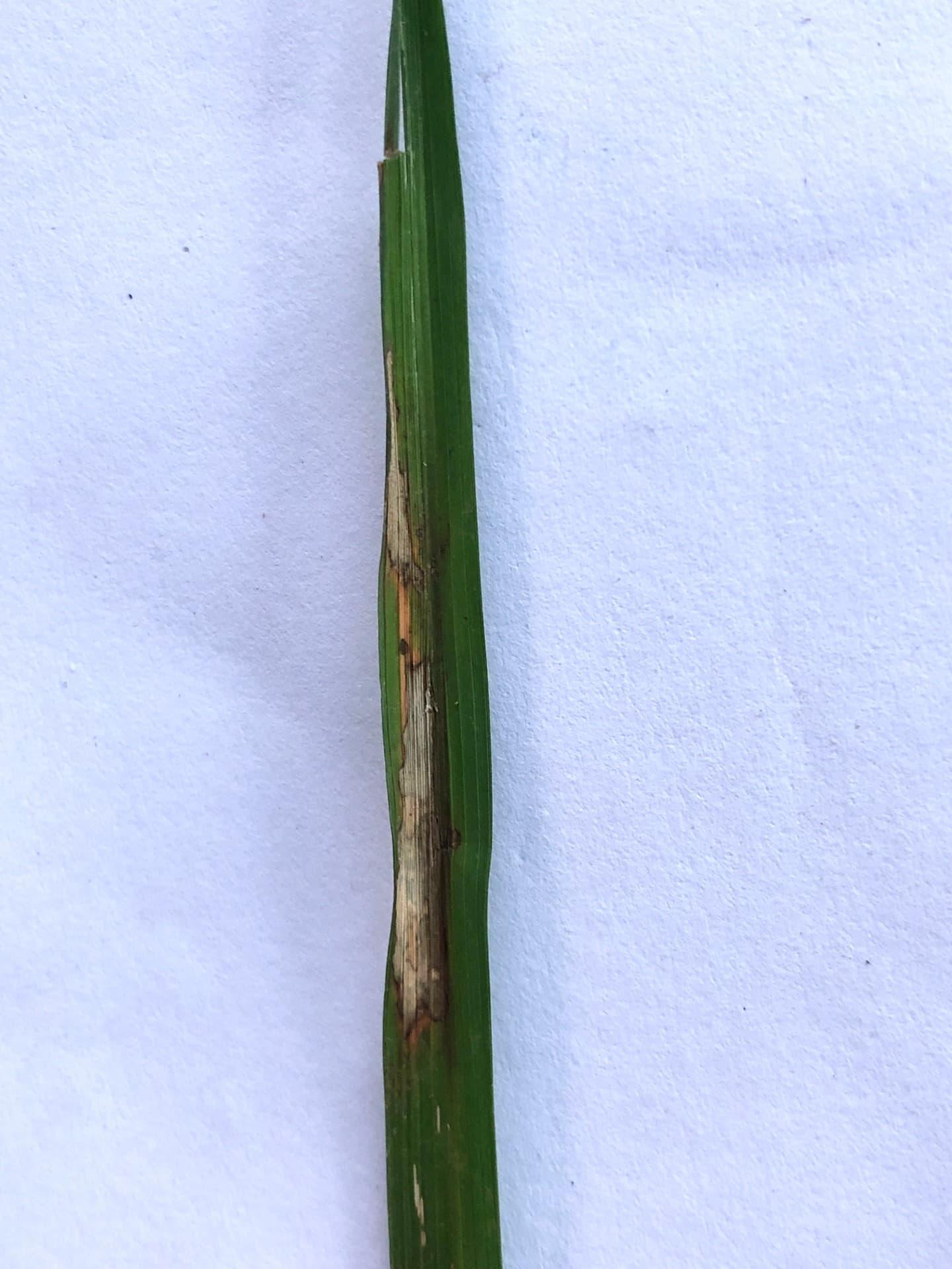Leaf Blight: (379, 358, 443, 1064), (412, 1163, 427, 1248)
